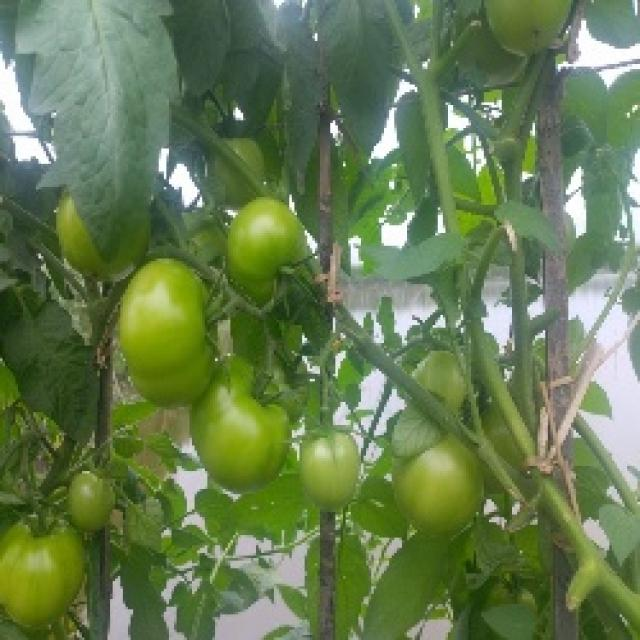tomato: (119, 259, 216, 409), (198, 355, 298, 485), (224, 198, 302, 294), (399, 447, 488, 530), (286, 435, 369, 509), (484, 5, 576, 58), (411, 343, 472, 419), (230, 140, 267, 179)
